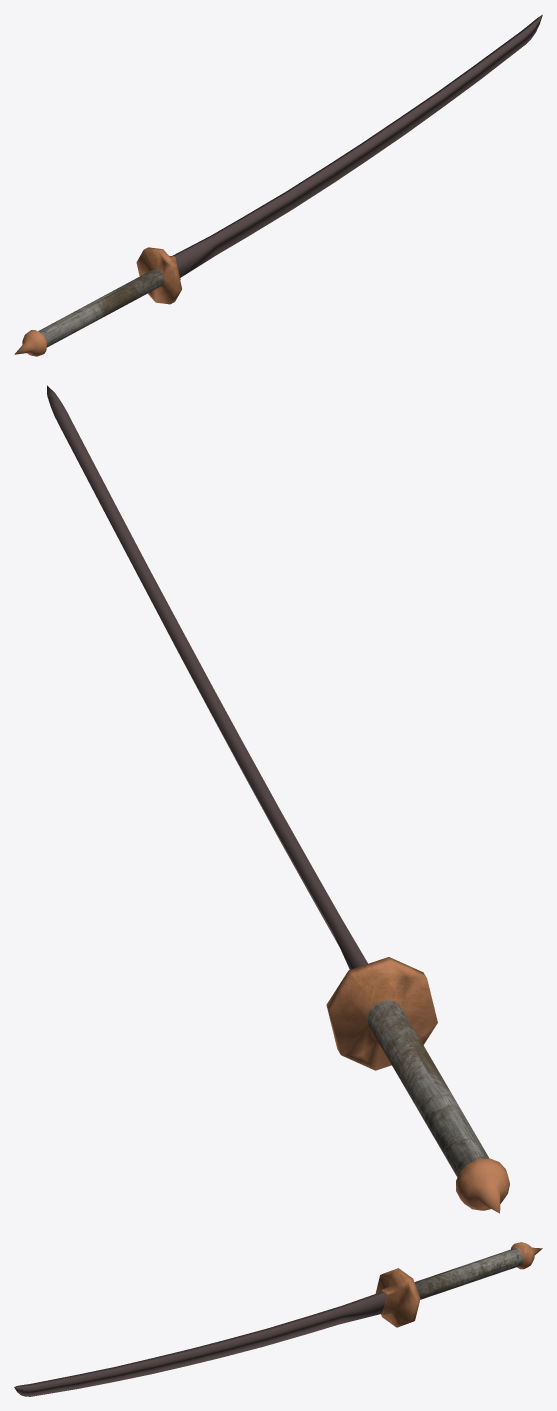
The model's file is Anim_idle_katana_objetos.0021.obj.
3 views of the same model, one above another, from view 1: azimuth 90°, elevation 25°; view 2: azimuth 150°, elevation 25°; view 3: azimuth 270°, elevation 25° (orthographic). The views are drawn at different scales.
Parts seen in each view (by area): view 1: Katana1; view 2: Katana1; view 3: Katana1.
Part boxes in pixels (x1,y1,x2,y2): Katana1: [14, 14, 542, 356]; Katana1: [47, 385, 509, 1213]; Katana1: [14, 1242, 542, 1396].
Bounding box in the file's own units: 3.88 × 0.8577 × 3.62.
